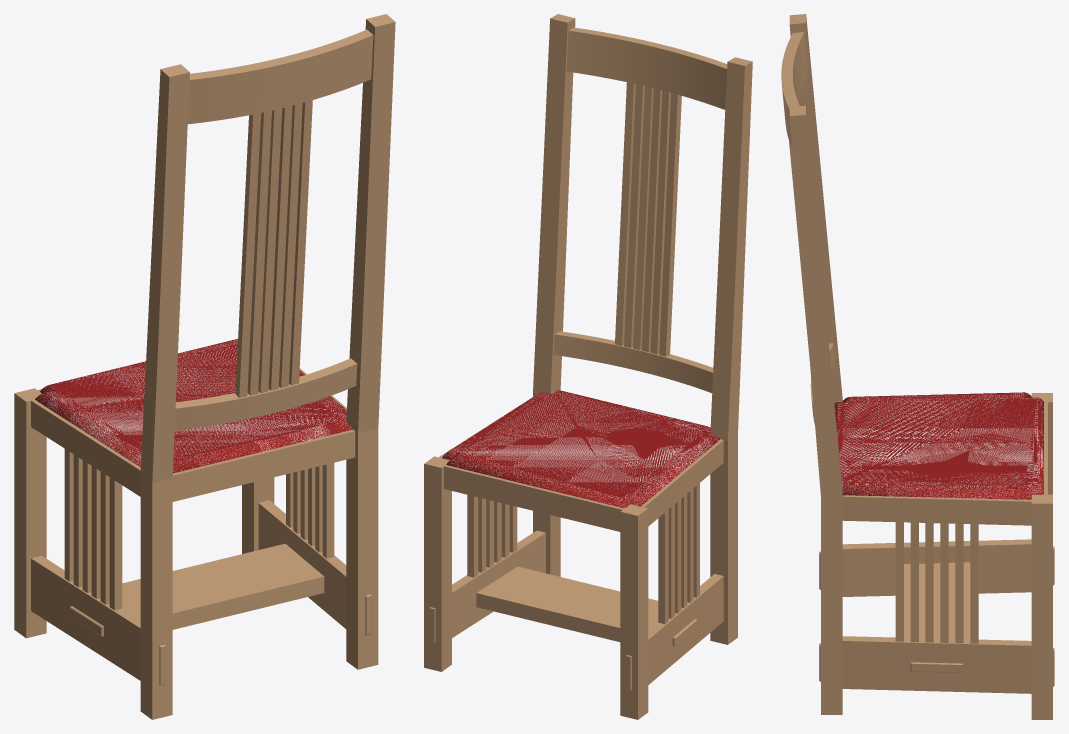
3 renders of one model, left to right at view 1: azimuth 30°, elevation 25°; view 2: azimuth 150°, elevation 25°; view 3: azimuth 270°, elevation 25°, orthographic. The views are drawn at different scales.
Parts seen in each view (by area): view 1: mesh91_mesh91-geometry, mesh97_mesh97-geometry, mesh118_mesh118-geometry, mesh139_mesh139-geometry, mesh124_mesh124-geometry, mesh87_mesh87-geometry, mesh58_mesh58-geometry, mesh7_mesh7-geometry, mesh41_mesh41-geometry, mesh1_mesh1-geometry, mesh103_mesh103-geometry, mesh64_mesh64-geometry (+3 smaller); view 2: mesh139_mesh139-geometry, mesh91_mesh91-geometry, mesh118_mesh118-geometry, mesh97_mesh97-geometry, mesh124_mesh124-geometry, mesh87_mesh87-geometry, mesh7_mesh7-geometry, mesh3_mesh3-geometry, mesh58_mesh58-geometry, mesh11_mesh11-geometry, mesh103_mesh103-geometry, mesh41_mesh41-geometry (+3 smaller); view 3: mesh139_mesh139-geometry, mesh97_mesh97-geometry, mesh64_mesh64-geometry, mesh41_mesh41-geometry, mesh81_mesh81-geometry, mesh13_mesh13-geometry, mesh3_mesh3-geometry, mesh91_mesh91-geometry, mesh87_mesh87-geometry, mesh124_mesh124-geometry, mesh7_mesh7-geometry.
Boxes of the visible parts, x1,y1,x2,y2 form: mesh91_mesh91-geometry: (140,64,189,719); mesh97_mesh97-geometry: (346,14,395,669); mesh118_mesh118-geometry: (235,100,312,397); mesh139_mesh139-geometry: (35,339,352,473); mesh124_mesh124-geometry: (187,29,373,124); mesh87_mesh87-geometry: (70,543,324,636); mesh58_mesh58-geometry: (64,449,122,610); mesh7_mesh7-geometry: (14,388,46,638); mesh41_mesh41-geometry: (31,555,165,685); mesh1_mesh1-geometry: (172,429,355,501); mesh103_mesh103-geometry: (174,358,357,430); mesh64_mesh64-geometry: (258,500,371,635); mesh139_mesh139-geometry: (442,390,720,508); mesh91_mesh91-geometry: (710,57,752,644); mesh118_mesh118-geometry: (615,82,681,356); mesh97_mesh97-geometry: (533,14,575,576); mesh124_mesh124-geometry: (566,27,727,109); mesh87_mesh87-geometry: (476,566,696,646); mesh7_mesh7-geometry: (620,504,648,719); mesh3_mesh3-geometry: (424,456,451,671); mesh58_mesh58-geometry: (658,483,699,623); mesh11_mesh11-geometry: (444,465,624,531); mesh103_mesh103-geometry: (553,331,713,392); mesh41_mesh41-geometry: (626,574,723,690); mesh139_mesh139-geometry: (834,392,1043,499); mesh97_mesh97-geometry: (789,105,842,714); mesh64_mesh64-geometry: (819,636,1054,693); mesh41_mesh41-geometry: (819,539,1054,596); mesh81_mesh81-geometry: (895,522,978,643); mesh13_mesh13-geometry: (842,495,1031,525); mesh3_mesh3-geometry: (1031,494,1052,719); mesh91_mesh91-geometry: (789,14,842,402); mesh87_mesh87-geometry: (904,562,970,672); mesh124_mesh124-geometry: (781,32,808,147); mesh7_mesh7-geometry: (1031,393,1052,494).
Bounding box in the file's own units: 0.3369 × 0.8524 × 0.3519.
